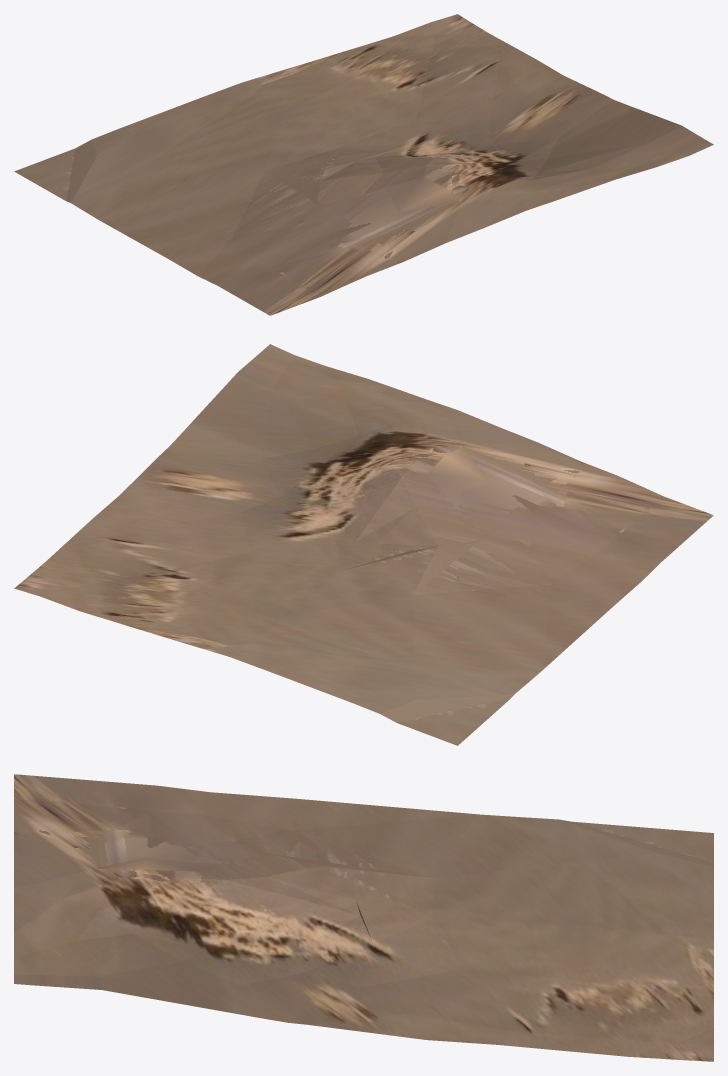
3 views of the same model, one above another, from view 1: azimuth 30°, elevation 25°; view 2: azimuth 150°, elevation 25°; view 3: azimuth 270°, elevation 25° (orthographic). The views are drawn at different scales.
Size of the model in its own units: 1.04 by 0.2387 by 1.04.
3 materials, 3 textured.
